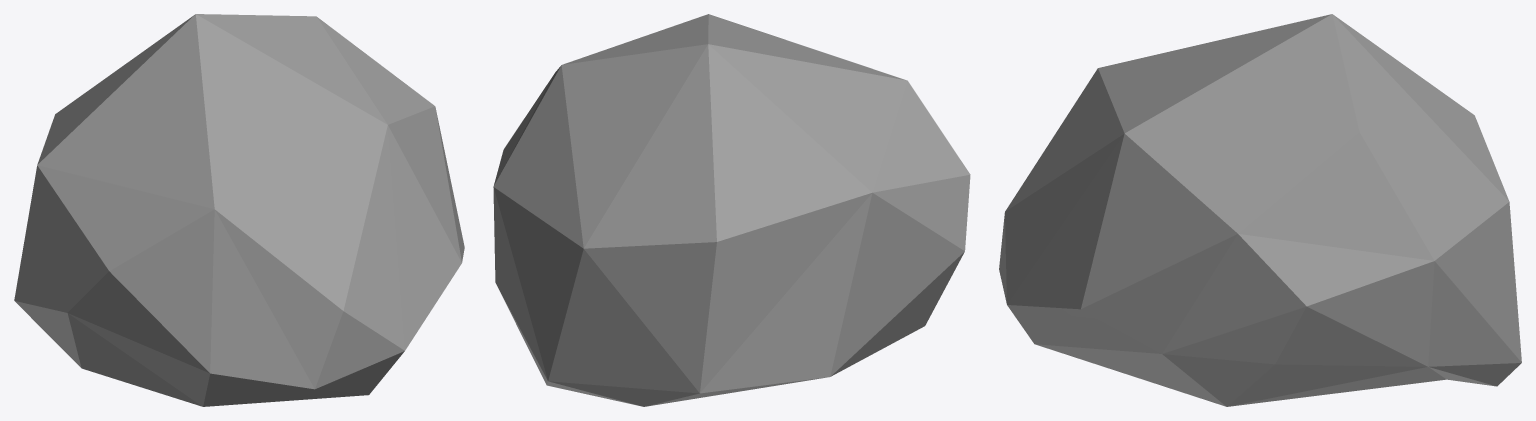
Rendered from big_rock.glb.
3 views of the same model, side by side, from view 1: azimuth 30°, elevation 25°; view 2: azimuth 150°, elevation 25°; view 3: azimuth 270°, elevation 25° (orthographic). The views are drawn at different scales.
Parts seen in each view (by area): view 1: rock02_Mesh_007_Base_0.022; view 2: rock02_Mesh_007_Base_0.022; view 3: rock02_Mesh_007_Base_0.022.
Boxes of the visible parts, x1,y1,x2,y2 form: rock02_Mesh_007_Base_0.022: (14,14,464,406); rock02_Mesh_007_Base_0.022: (493,14,970,406); rock02_Mesh_007_Base_0.022: (999,14,1521,406).
Bounding box in the file's own units: 2.35 × 1.68 × 2.42.
1 material, 1 textured.
